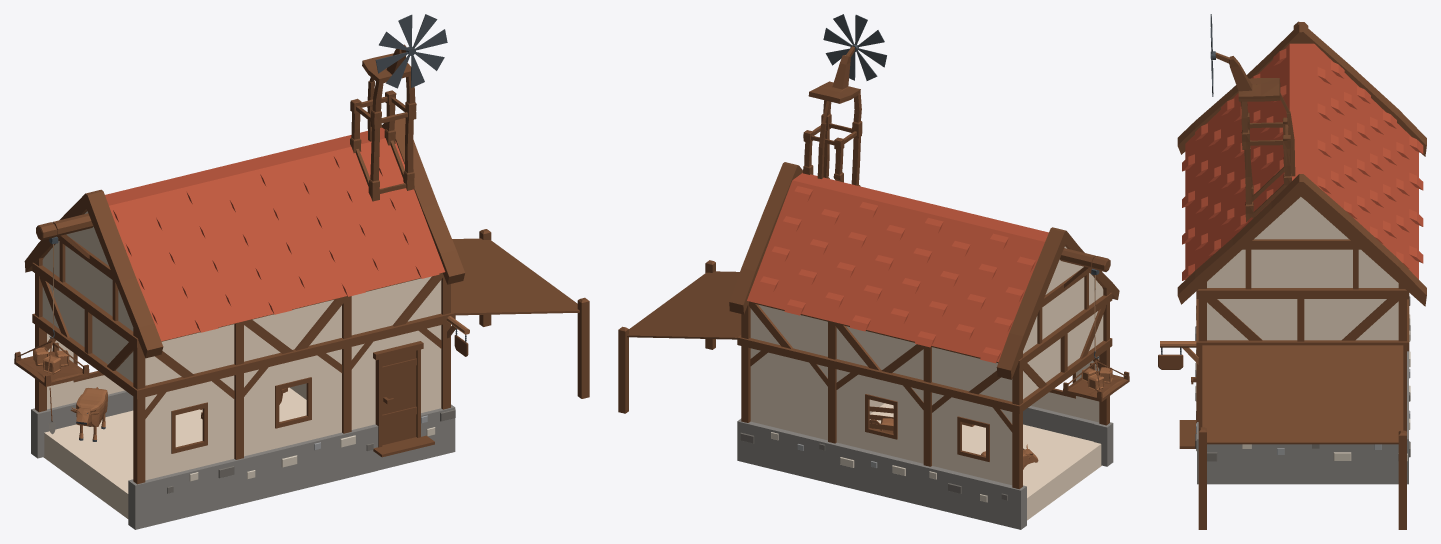
Rendered from BuildingSecond.fbx.
The picture shows the model from 3 angles, left to right: view 1: azimuth 30°, elevation 25°; view 2: azimuth 150°, elevation 25°; view 3: azimuth 270°, elevation 25°; orthographic projection. The views are drawn at different scales.
Visible parts, largest first — view 1: BuildingSecond; view 2: BuildingSecond; view 3: BuildingSecond.
Part boxes in pixels (box(x1,y1,x2,y2)): BuildingSecond: box(14, 14, 589, 529); BuildingSecond: box(618, 14, 1129, 529); BuildingSecond: box(1158, 14, 1426, 529).
Bounding box in the file's own units: 12.21 × 10.12 × 5.49.
